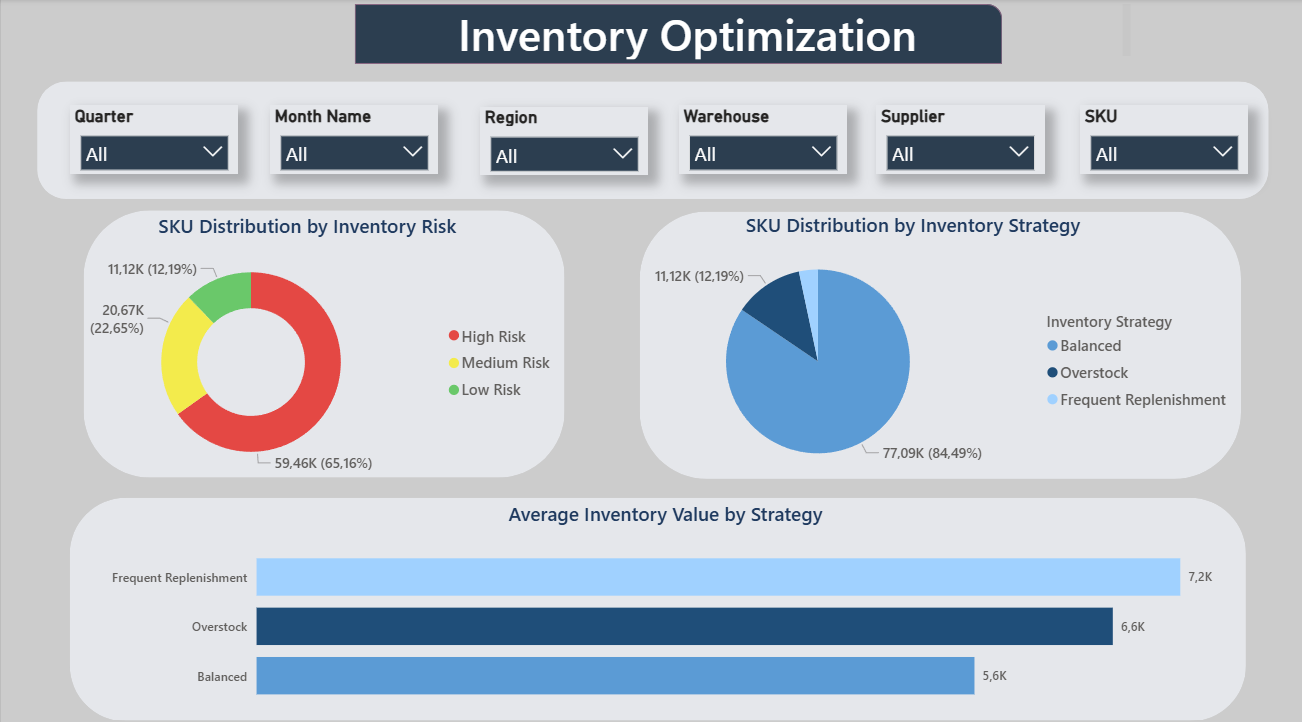

The dashboard page shown, as its layout file describes it:
{"tool":"powerbi","page":{"name":"Inventory Optimization","canvas":[1280,720],"ordinal":4},"visuals":[{"type":"shape","box":[627,208.6,590.2,262.6],"z":0},{"type":"shape","box":[81,207.4,472.4,262.6],"z":1000},{"type":"shape","box":[67.5,489.6,1154.6,219.6],"z":2000},{"type":"shape","box":[347.2,4.9,635.6,58.9],"z":3000},{"type":"textbox","box":[444.2,0,669.9,63.8],"z":4000},{"type":"shape","box":[35.6,81,1208.6,115.3],"z":5000},{"type":"slicer","title":"Month Name ","fields":{"Values":["date_table.Month Name"]},"box":[263.8,104.3,165.6,67.5],"z":6000},{"type":"slicer","title":"Quarter","fields":{"Values":["date_table.Quarter & Year"]},"box":[67.5,104.3,165.6,67.5],"z":7000},{"type":"slicer","title":"Region","fields":{"Values":["supply_chain.region"]},"box":[469.9,105.5,165.6,67.5],"z":8000},{"type":"slicer","title":"Warehouse","fields":{"Values":["supply_chain.warehouse_id"]},"box":[665,104.3,165.6,67.5],"z":9000},{"type":"slicer","title":"Supplier","fields":{"Values":["supply_chain.supplier_id"]},"box":[858.9,104.3,165.6,67.5],"z":10000},{"type":"slicer","title":"SKU","fields":{"Values":["supply_chain.sku_id"]},"box":[1058.9,104.3,165.6,67.5],"z":11000},{"type":"donutChart","title":"SKU Distribution by Inventory Risk","fields":{"Category":["supply_chain.Inventory Risk Level"],"Y":["CountNonNull(supply_chain.sku_id)"]},"box":[47.9,209.8,505.5,268.7],"z":12000},{"type":"pieChart","title":"SKU Distribution by Inventory Strategy","fields":{"Category":["supply_chain.Inventory Strategy"],"Y":["CountNonNull(supply_chain.sku_id)"]},"box":[573,208.6,644.2,269.9],"z":13000},{"type":"barChart","title":"Average Inventory Value by Strategy","fields":{"Category":["supply_chain.Inventory Strategy"],"Y":["Measure_Table.Average Inventory Value"]},"box":[103.1,492,1098.2,217.2],"z":14000}]}

Visuals, with their boxes in screenshot pixels (x1, y1, x2, y2), scaled from the page's 1280x720 canvas onto the 1302x722 screenshot:
shape: [left=638, top=209, right=1238, bottom=473]
shape: [left=82, top=208, right=563, bottom=471]
shape: [left=69, top=491, right=1243, bottom=711]
shape: [left=353, top=5, right=1000, bottom=64]
textbox: [left=452, top=0, right=1133, bottom=64]
shape: [left=36, top=81, right=1266, bottom=197]
"Month Name " slicer: [left=268, top=105, right=437, bottom=172]
"Quarter" slicer: [left=69, top=105, right=237, bottom=172]
"Region" slicer: [left=478, top=106, right=646, bottom=173]
"Warehouse" slicer: [left=676, top=105, right=845, bottom=172]
"Supplier" slicer: [left=874, top=105, right=1042, bottom=172]
"SKU" slicer: [left=1077, top=105, right=1246, bottom=172]
"SKU Distribution by Inventory Risk" donutChart: [left=49, top=210, right=563, bottom=480]
"SKU Distribution by Inventory Strategy" pieChart: [left=583, top=209, right=1238, bottom=480]
"Average Inventory Value by Strategy" barChart: [left=105, top=493, right=1222, bottom=711]
